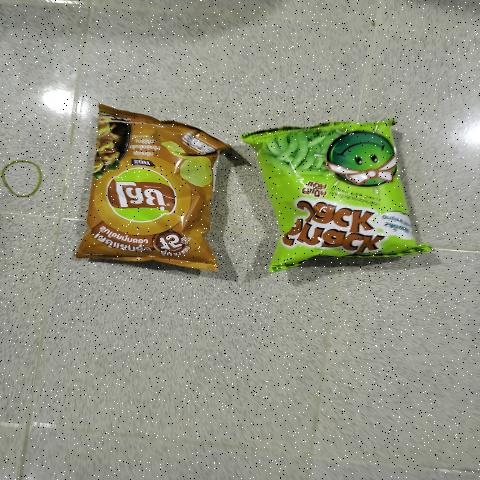snack_jack: (275, 127, 389, 256)
